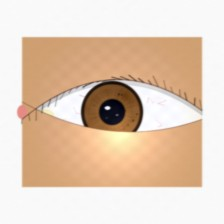pinguecula_lesion: (24, 99, 64, 131)
